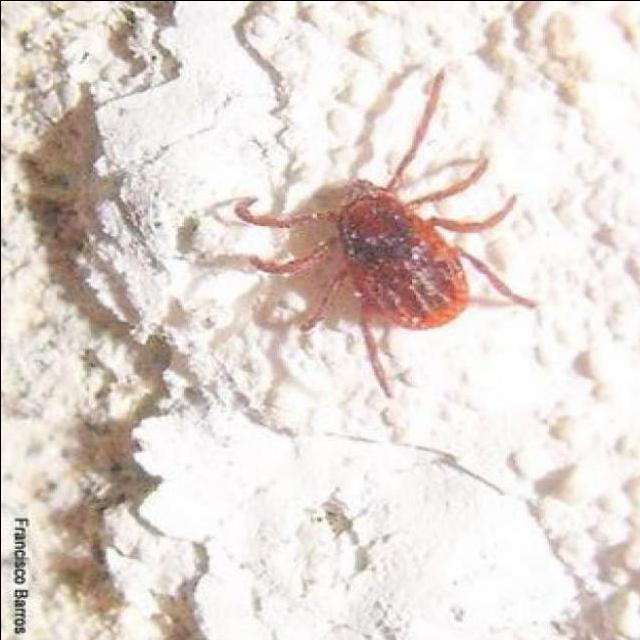Rhipicephalus Sanguineus-F: (231, 69, 540, 398)
